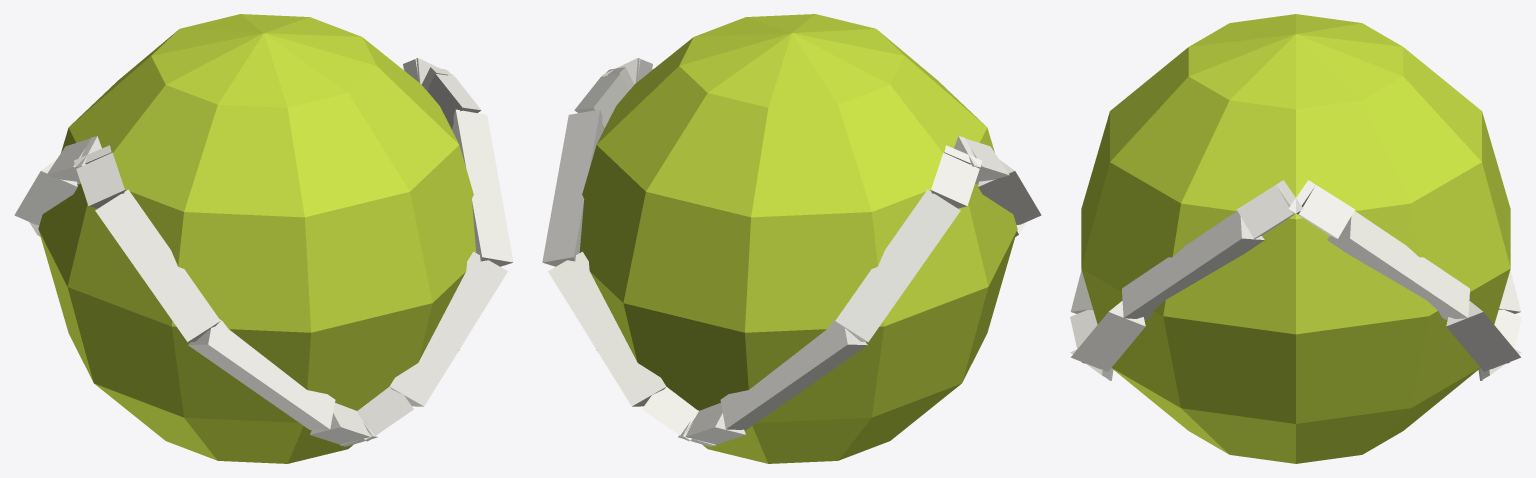
The model's file is GS_TennisBall_01.glb.
3 renders of one model, left to right at view 1: azimuth 30°, elevation 25°; view 2: azimuth 150°, elevation 25°; view 3: azimuth 270°, elevation 25°, orthographic.
Parts seen in each view (by area): view 1: GS_TennisBall_01; view 2: GS_TennisBall_01; view 3: GS_TennisBall_01.
Part boxes in pixels (bbox=[...]): GS_TennisBall_01: bbox=[14, 14, 513, 463]; GS_TennisBall_01: bbox=[542, 14, 1041, 463]; GS_TennisBall_01: bbox=[1070, 14, 1521, 463].
Bounding box in the file's own units: 0.066 × 0.066 × 0.066.
Materials: 1 (1 with a texture image).
